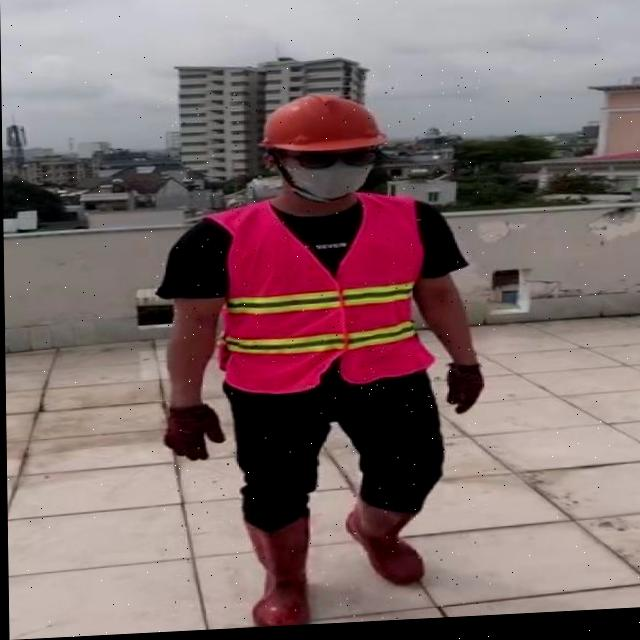Gloves: (161, 404, 223, 463), (443, 367, 483, 419)
Safety-Boot: (243, 510, 310, 630), (343, 503, 422, 592)
Safety-Vest: (201, 192, 434, 399)
